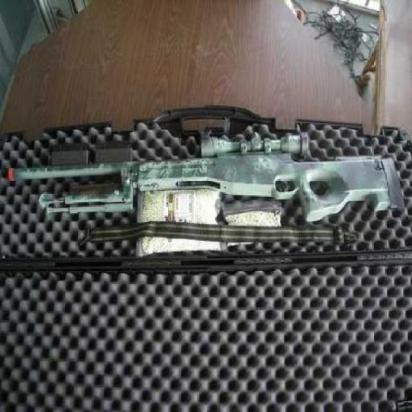Gun: (0, 130, 407, 234)
